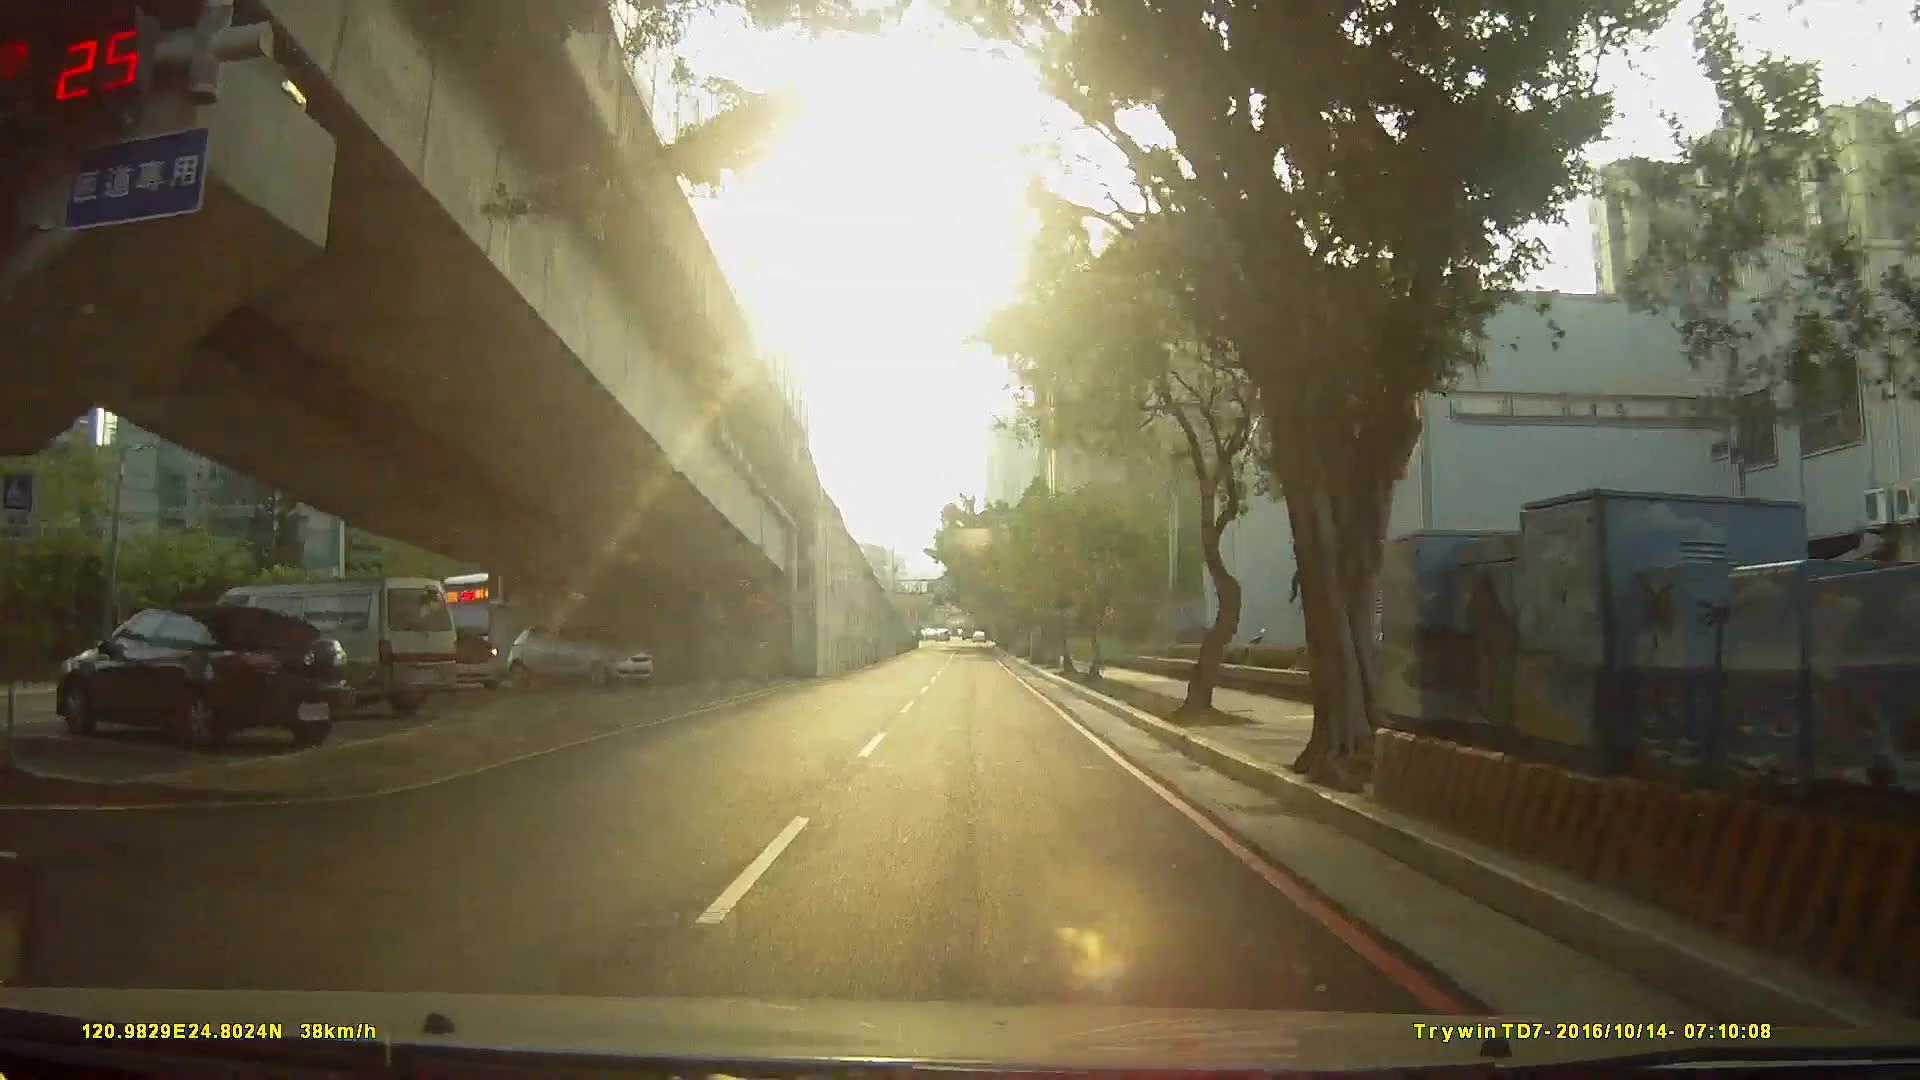vehicle: (41, 584, 355, 746), (179, 578, 448, 717), (500, 621, 651, 690), (402, 622, 498, 692)
